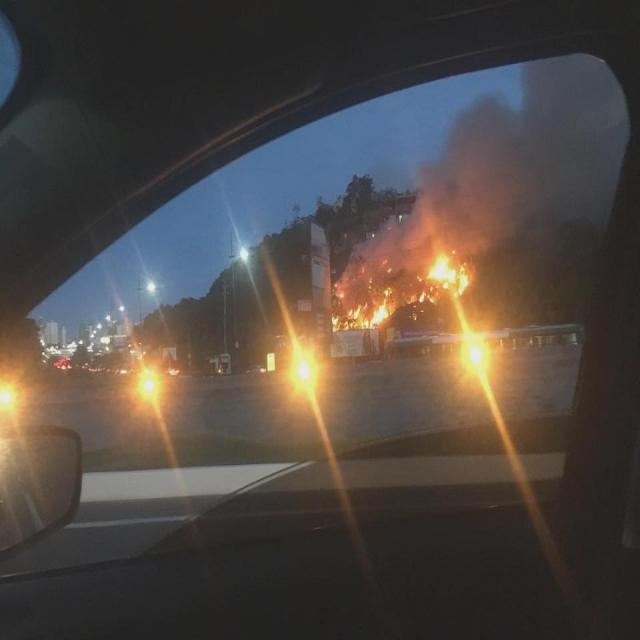Fire: (331, 288, 394, 333), (415, 261, 472, 303)
